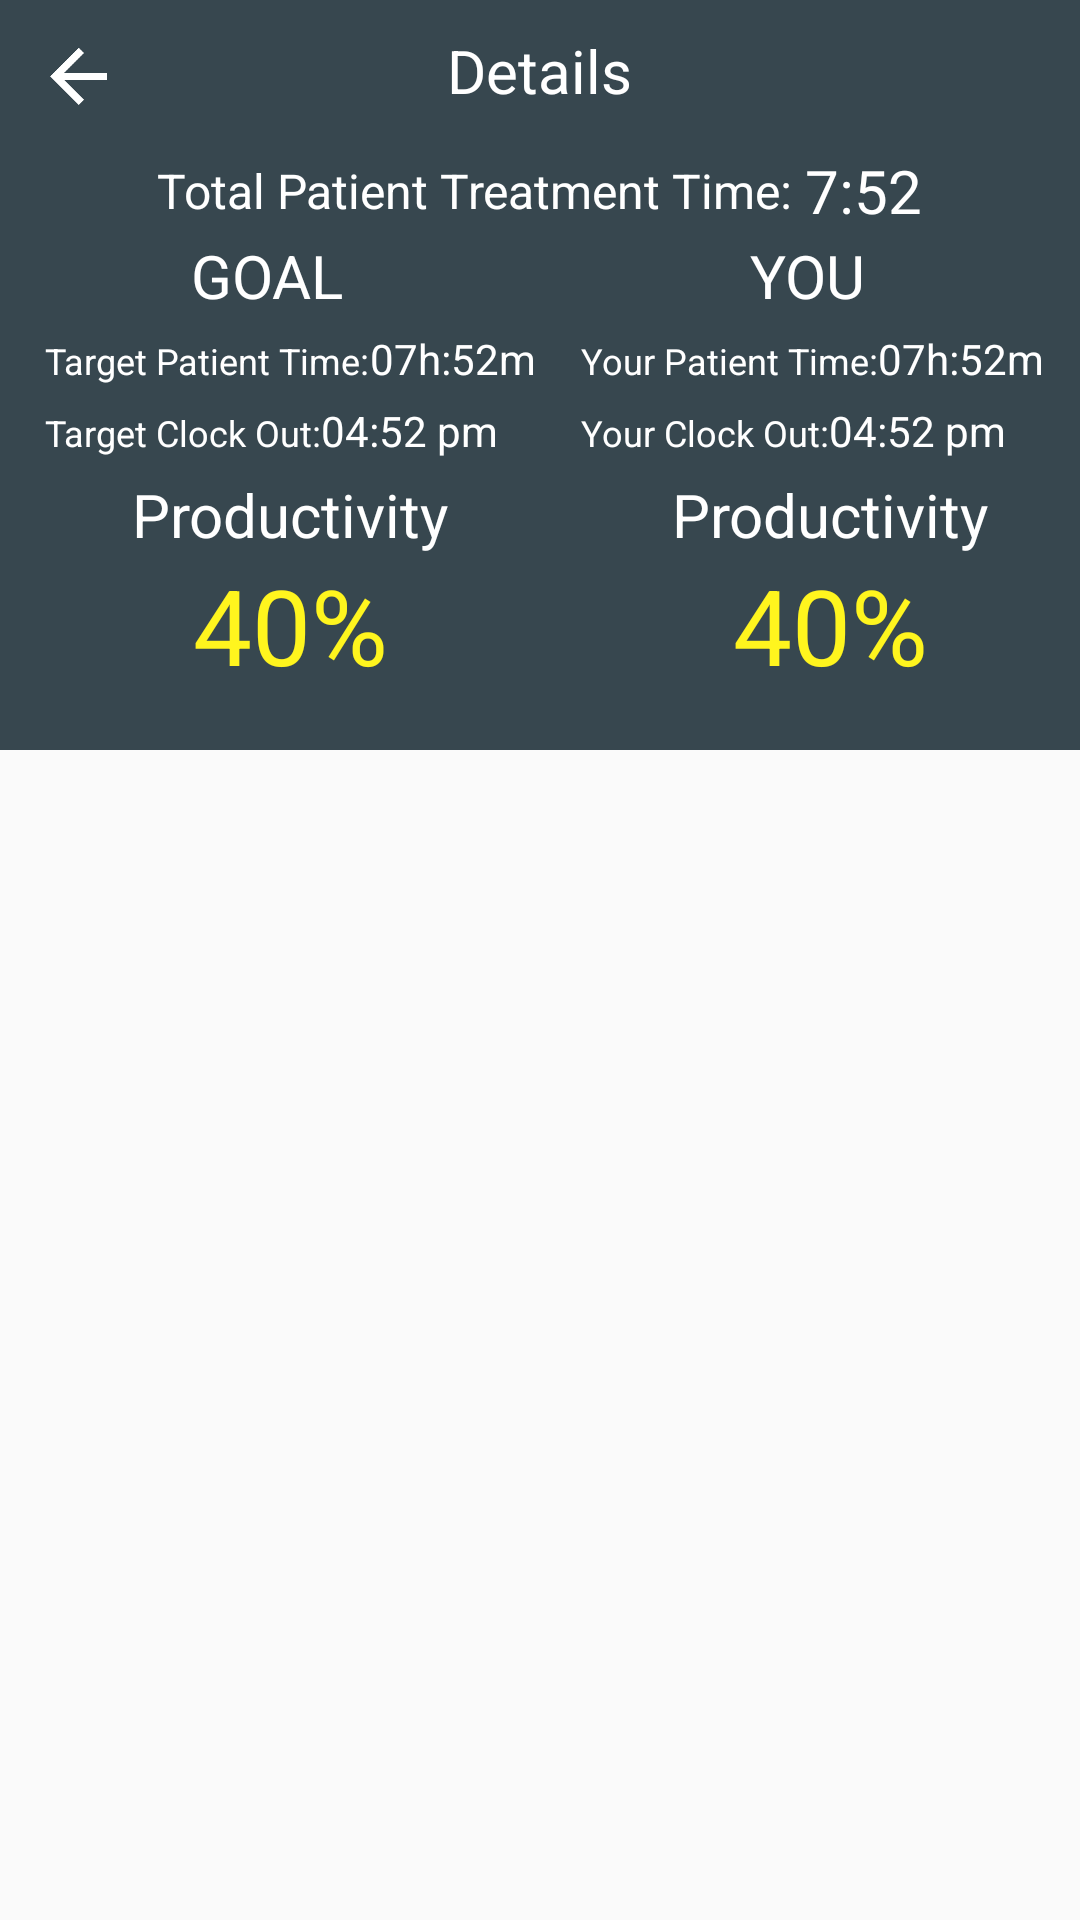

Named icons in this screenshot (1080 × 1920) and their bounding boxes, (x1, y1, x2, y2):
left arrow: (50, 48, 107, 105)
